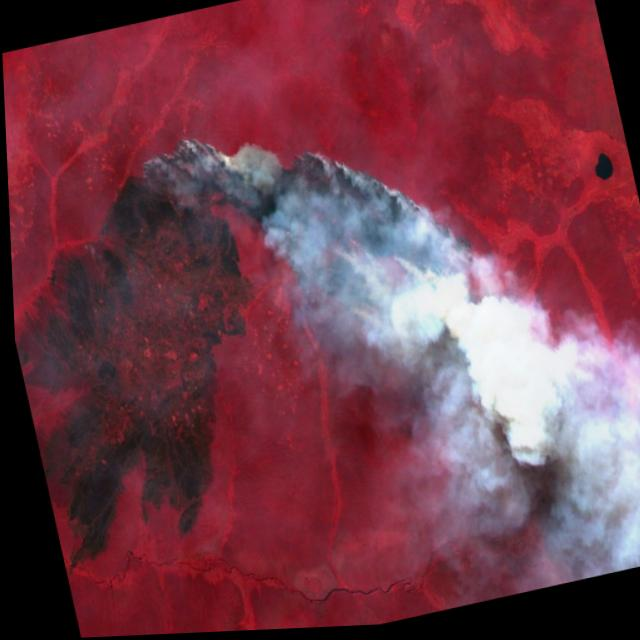fire: (124, 74, 495, 389)
